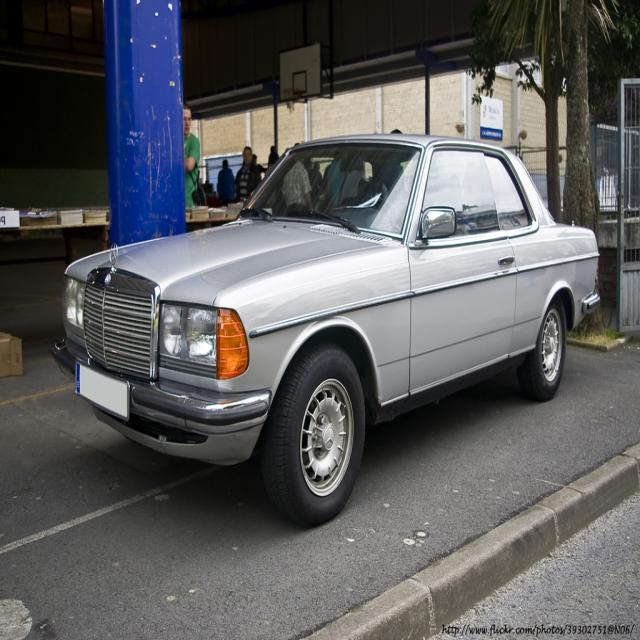car: (46, 122, 605, 526)
